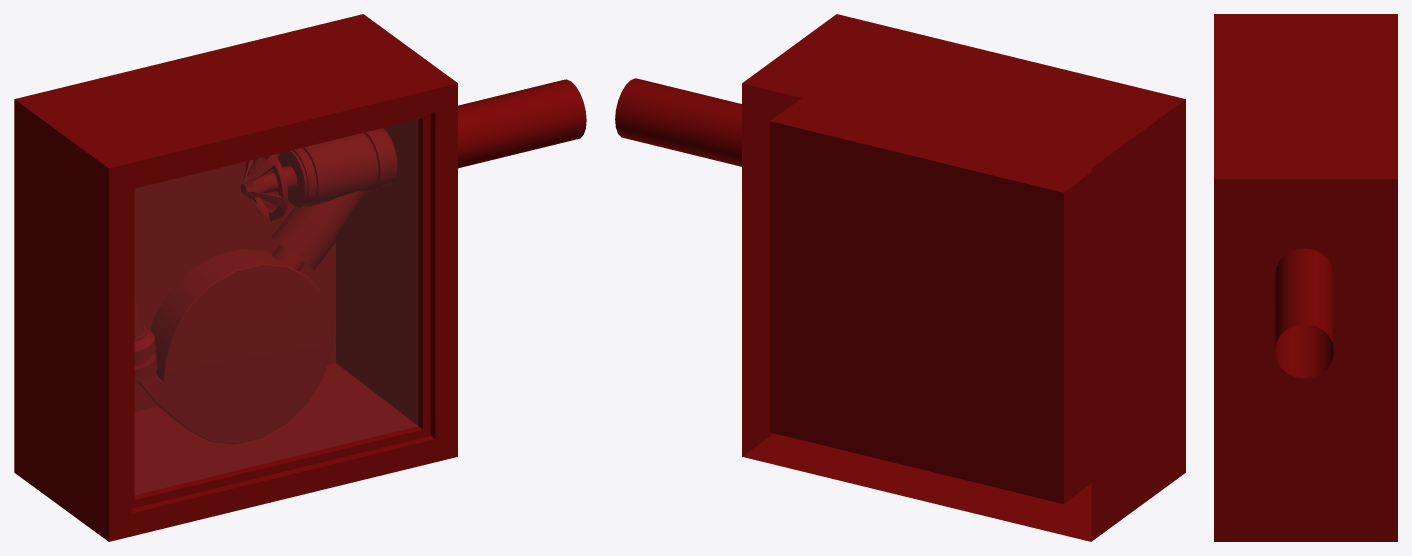
The model's file is Manguera_Incendio.fbx.
3 renders of one model, left to right at view 1: azimuth 30°, elevation 25°; view 2: azimuth 150°, elevation 25°; view 3: azimuth 270°, elevation 25°, orthographic. The views are drawn at different scales.
Visible parts, largest first — view 1: Manguera_Incendio; view 2: Manguera_Incendio; view 3: Manguera_Incendio.
Boxes of the visible parts, x1,y1,x2,y2 form: Manguera_Incendio: (14, 14, 586, 541); Manguera_Incendio: (615, 14, 1185, 541); Manguera_Incendio: (1214, 14, 1397, 541).
Bounding box in the file's own units: 1.53 × 1.07 × 0.4922.
